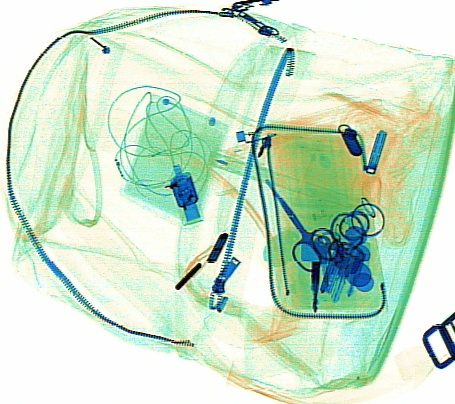scissors: (264, 177, 339, 271)
